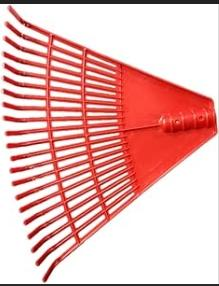RATEAU: (0, 4, 215, 286)
